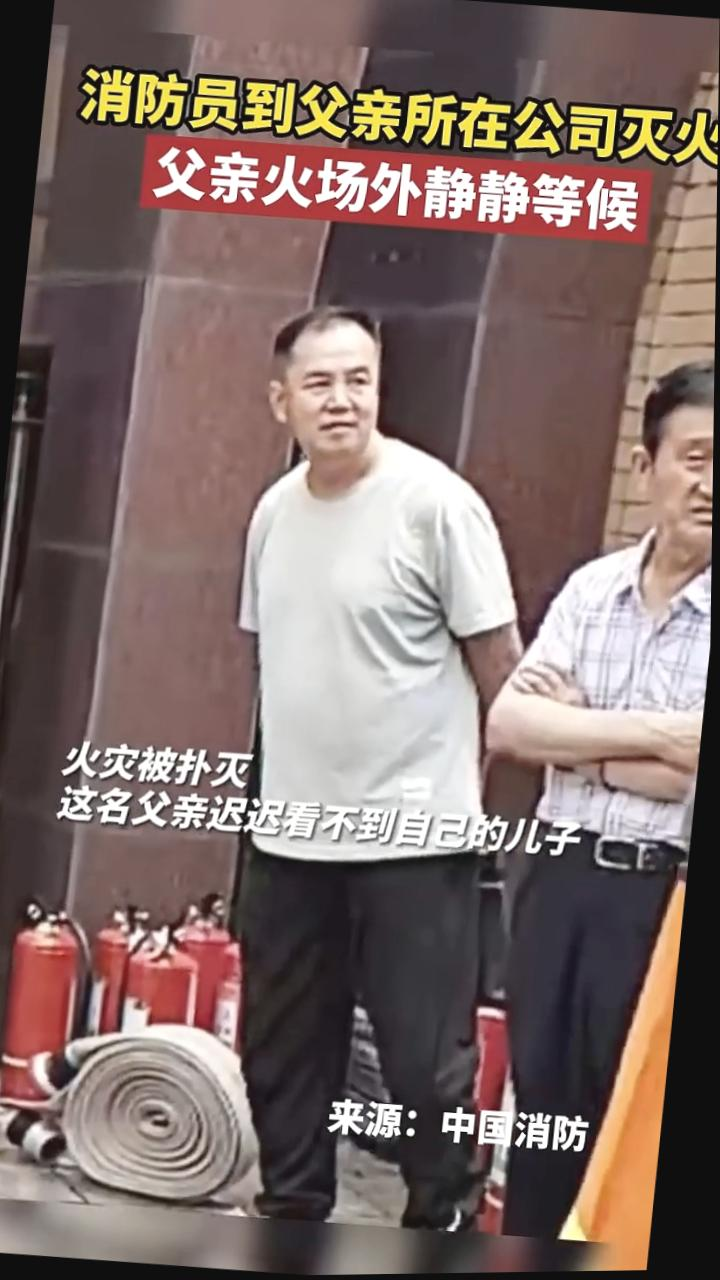FireExtinguisher: (0, 896, 104, 1125), (88, 881, 203, 1071), (181, 882, 268, 1047), (0, 893, 14, 1126)
